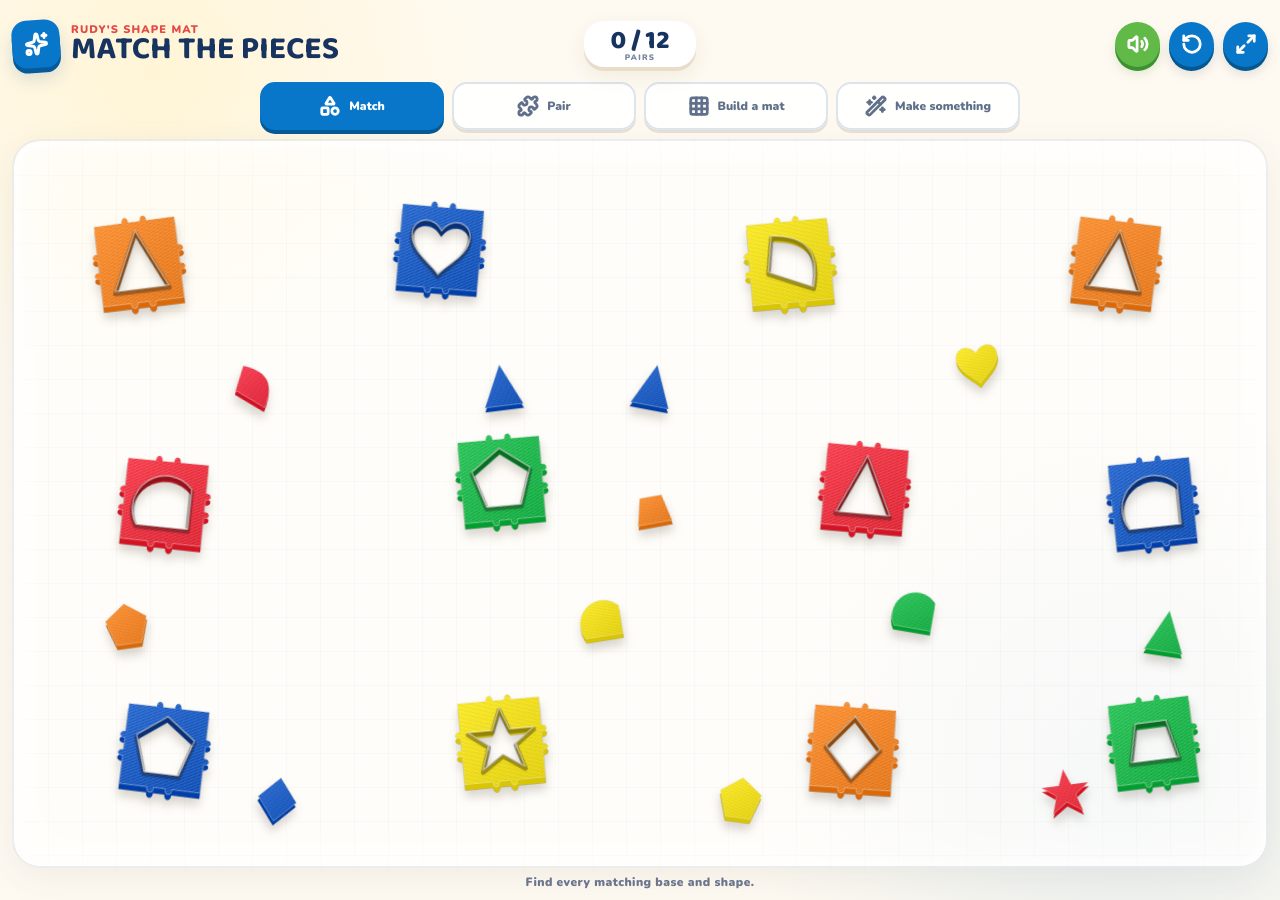
it: activity navigation › opens the focused Pair activity with one base and one shape
Click the button "Pair" at (544, 106), box x1=452 y1=82 x2=636 y2=130
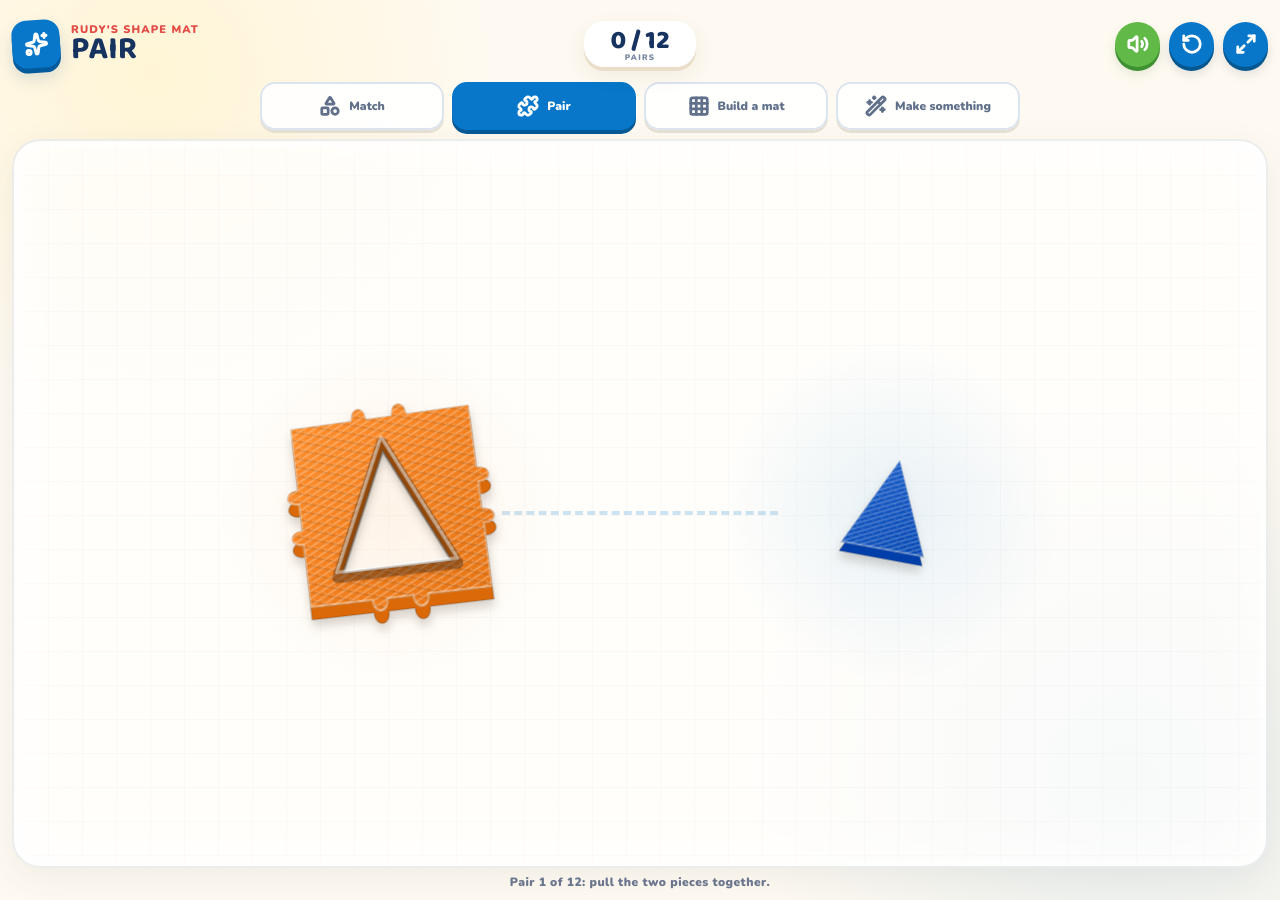
Now the heading "Pair" is shown, box x1=71 y1=24 x2=137 y2=75
Now the number of buttons named " base" is 1, box x1=268 y1=385 x2=518 y2=636
Now the number of buttons named " shape" is 1, box x1=798 y1=418 x2=982 y2=601
